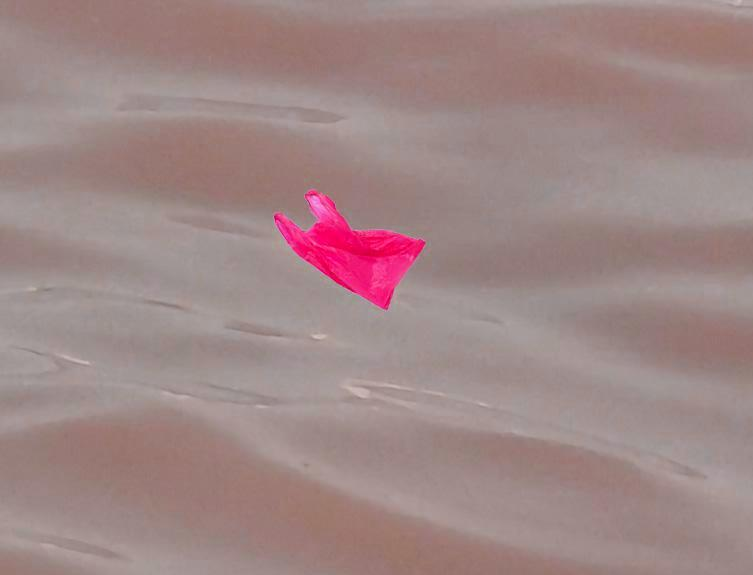Trash: (267, 186, 427, 315)
